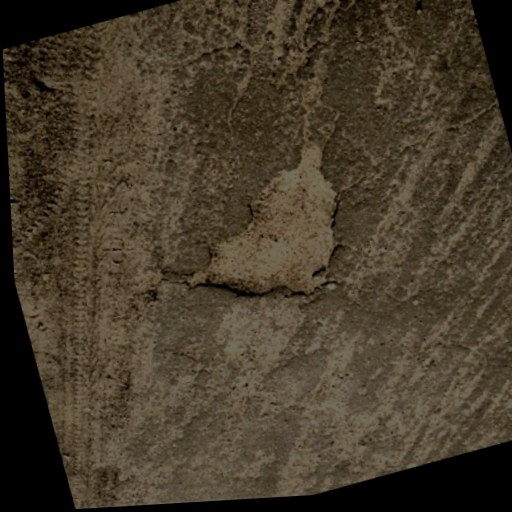pothole: (155, 139, 368, 331)
